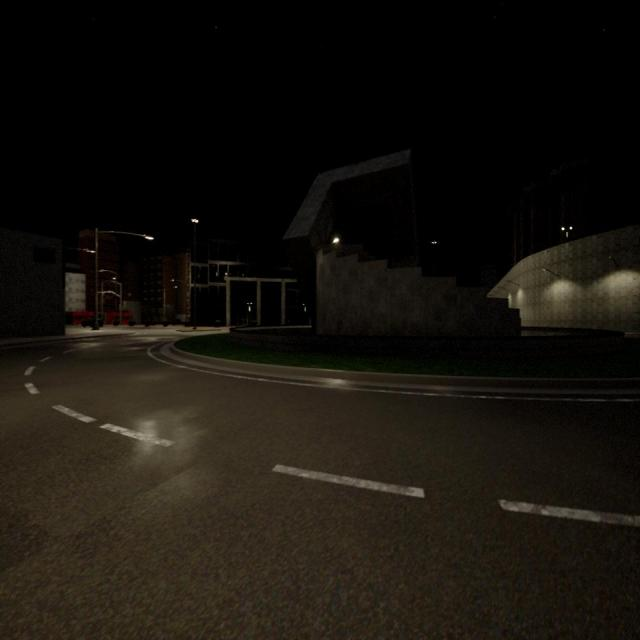Vehicle: (82, 318, 103, 327)
